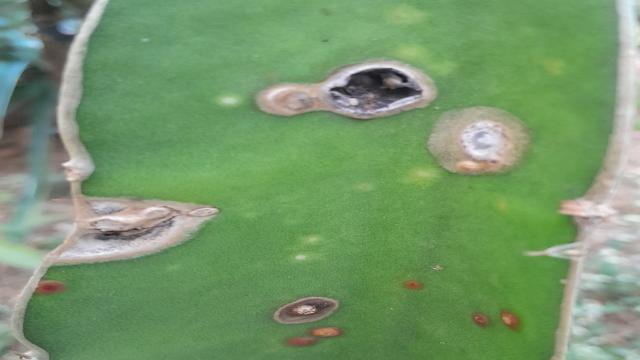stemcanker: (47, 196, 228, 269), (253, 55, 443, 124), (427, 102, 534, 178), (270, 293, 343, 328)
